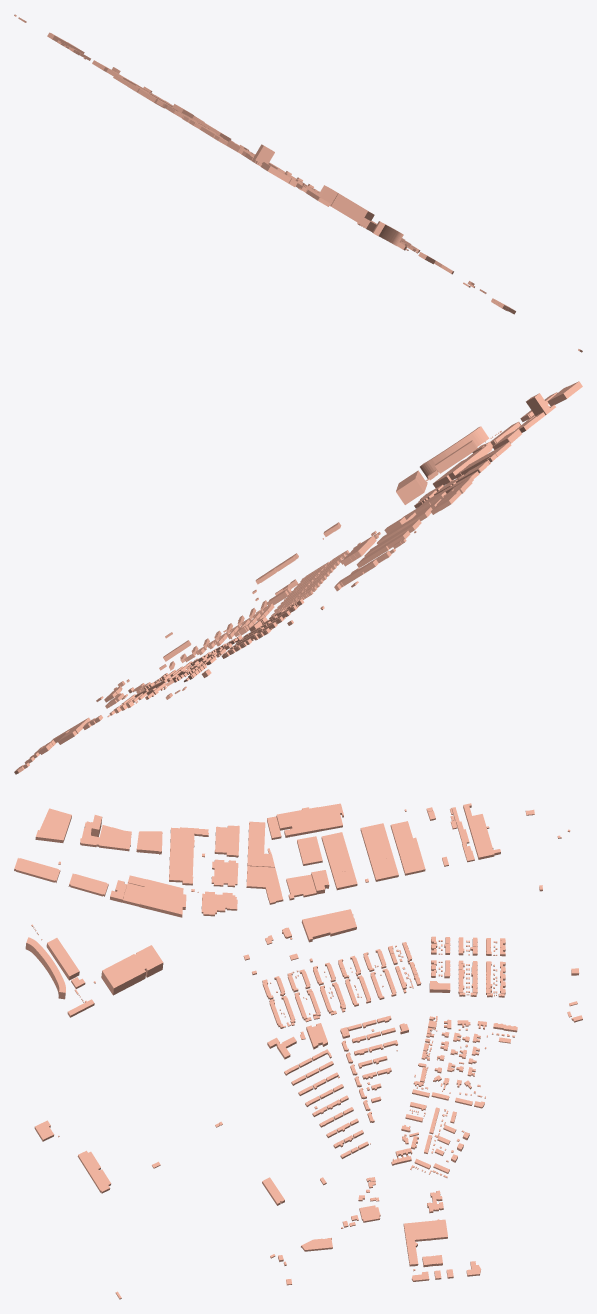
The picture shows the model from 3 angles, top to bottom: view 1: azimuth 30°, elevation 25°; view 2: azimuth 150°, elevation 25°; view 3: azimuth 270°, elevation 25°; orthographic projection. The views are drawn at different scales.
Bounding box in the file's own units: 972 × 742 × 1219.
